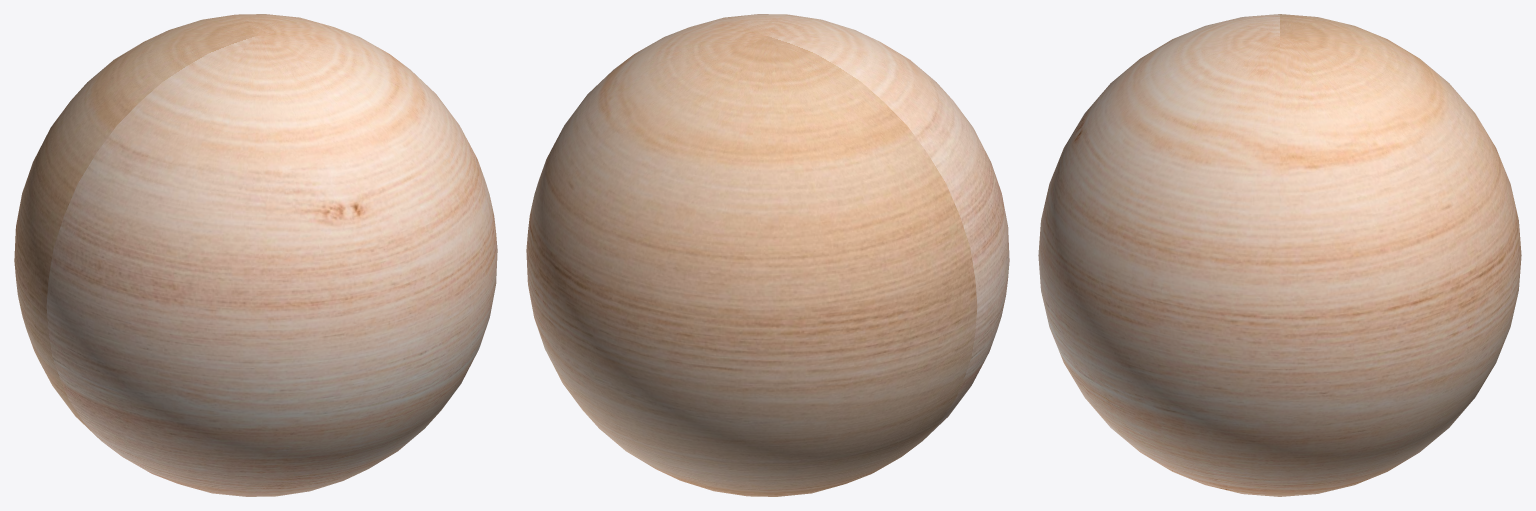
File: Canica.obj
The picture shows the model from 3 angles, left to right: view 1: azimuth 30°, elevation 25°; view 2: azimuth 150°, elevation 25°; view 3: azimuth 270°, elevation 25°; orthographic projection.
Parts seen in each view (by area): view 1: GeoSphere001; view 2: GeoSphere001; view 3: GeoSphere001.
Part boxes in pixels (x1,y1,x2,y2): GeoSphere001: (14, 14, 497, 496); GeoSphere001: (526, 14, 1009, 496); GeoSphere001: (1038, 14, 1521, 496).
Bounding box in the file's own units: 0.3937 × 0.3938 × 0.3937.
